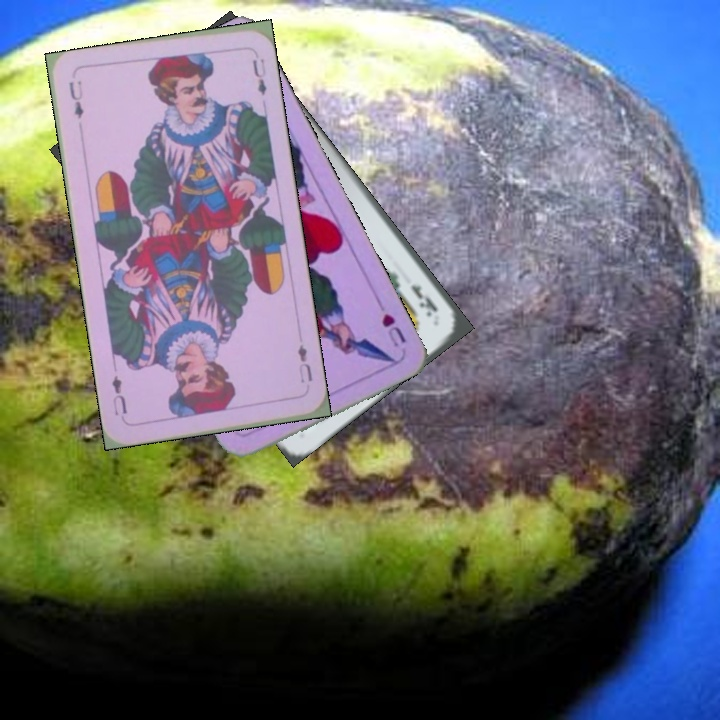EK: (406, 281, 441, 320)
EU: (293, 340, 315, 385), (65, 76, 86, 122)
HU: (373, 297, 409, 350)
